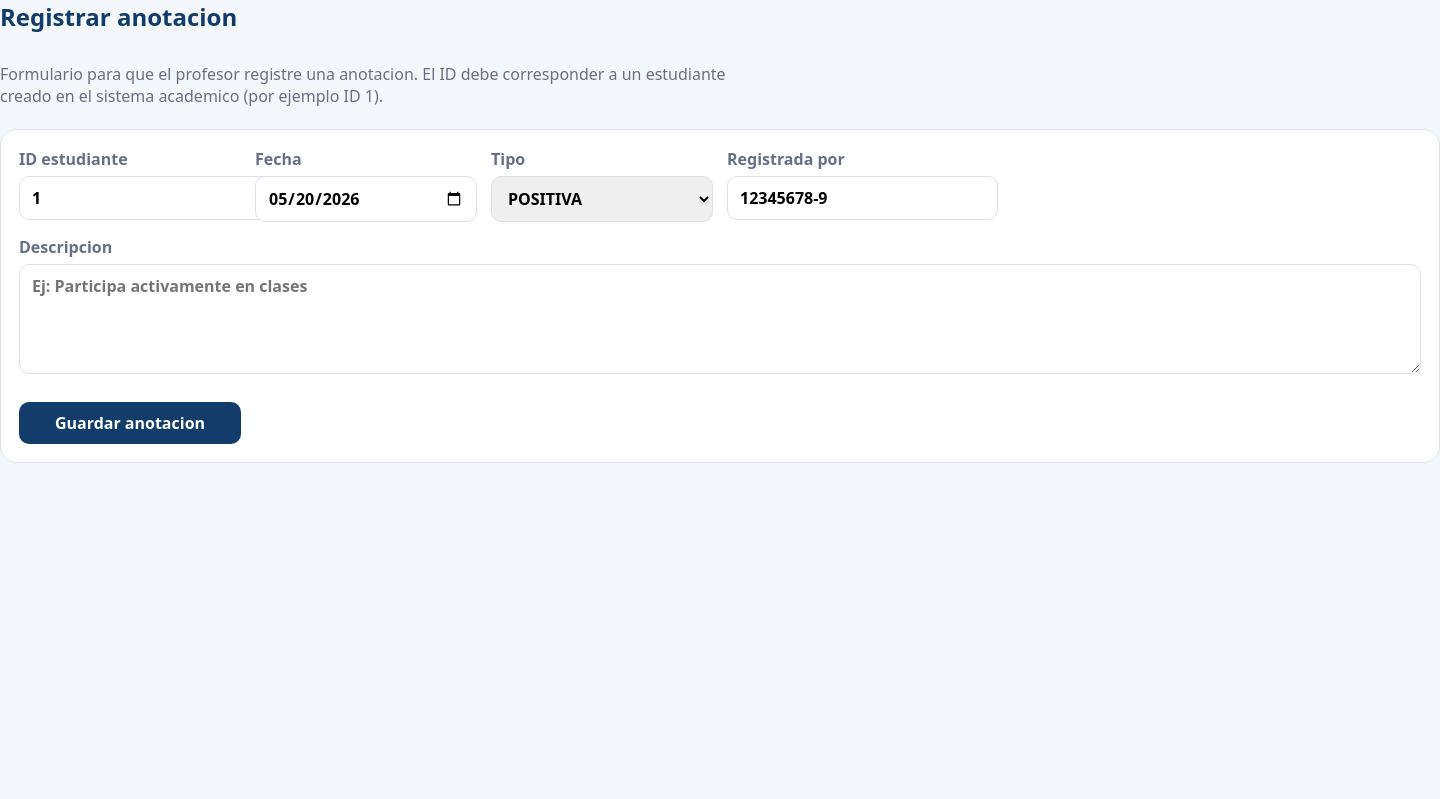
paginas frontend › RegistrarAnotacion envia datos y muestra exito
The image size is (1440, 799).
Type "Participa activamente" into the text box with placeholder "Ej: Participa activamente en clases" at (720, 319), box x1=19 y1=264 x2=1421 y2=374
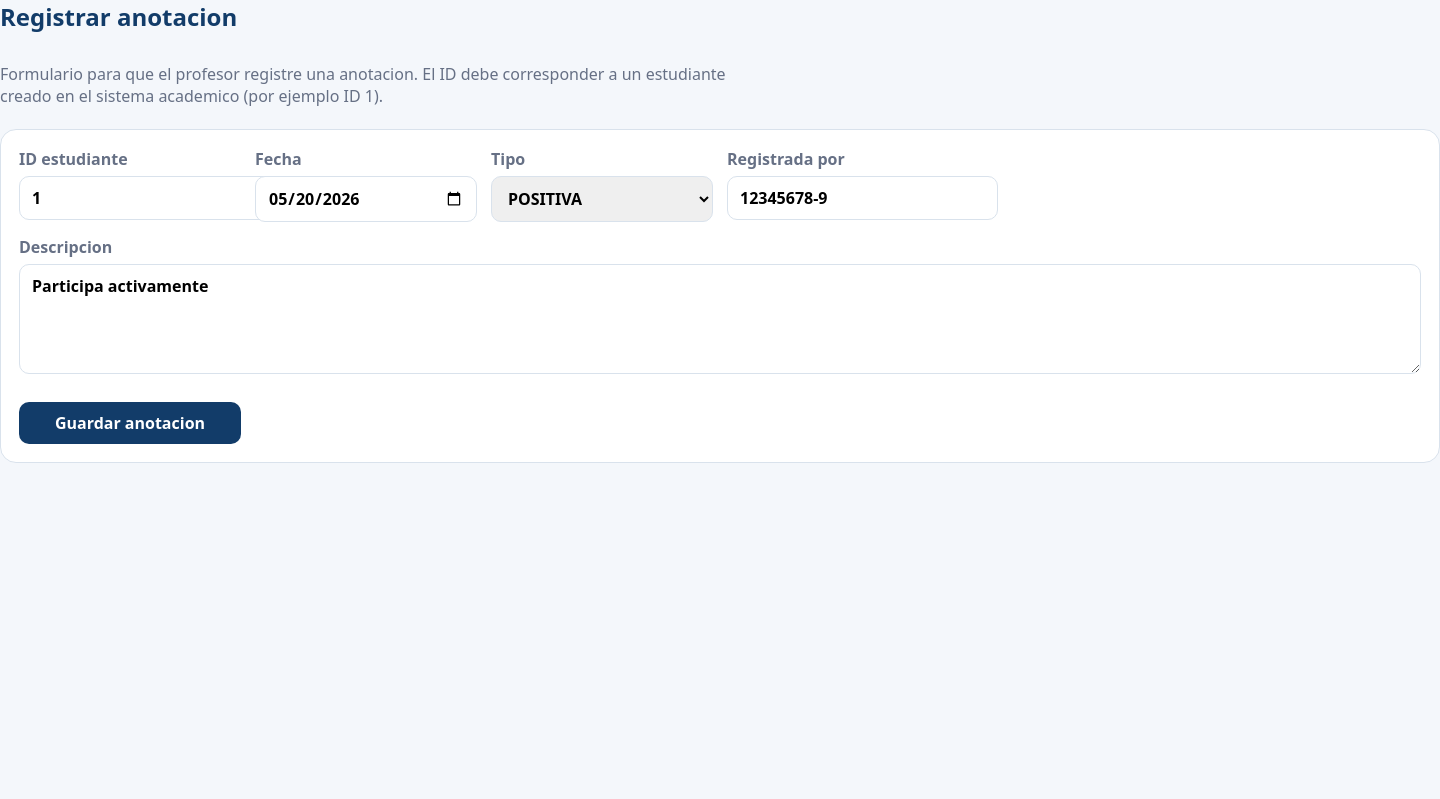
Click the button "Guardar anotacion" at (130, 423), box x1=19 y1=402 x2=241 y2=444
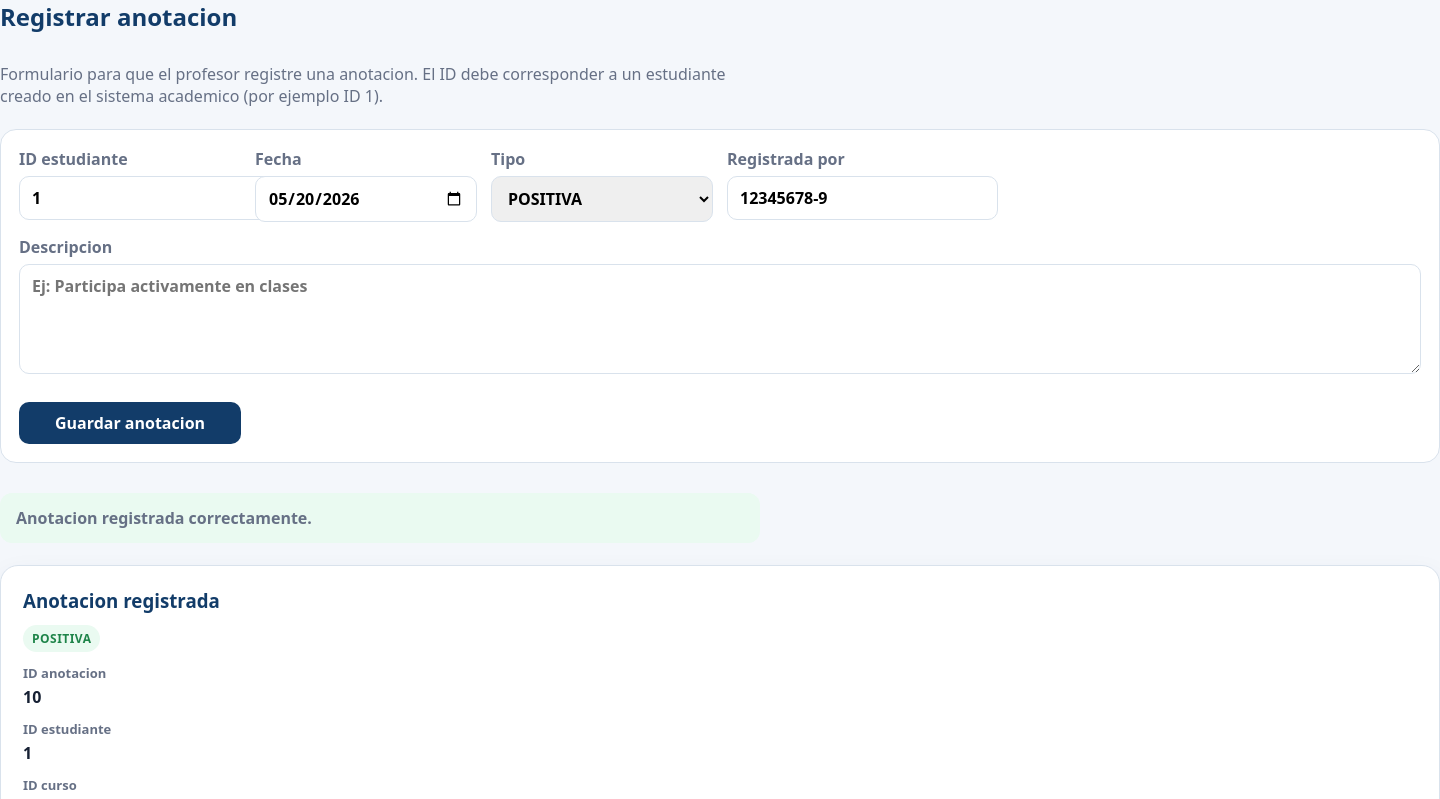
Now the text "Anotacion registrada correctamente." is shown, box x1=0 y1=493 x2=760 y2=543
